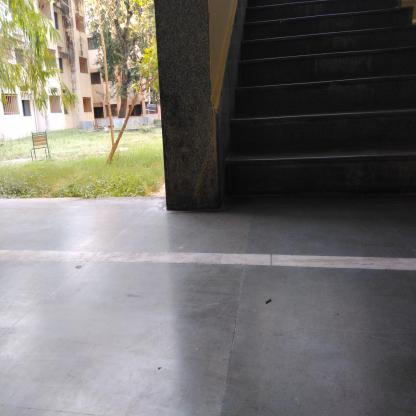stairs: (249, 5, 411, 213)
